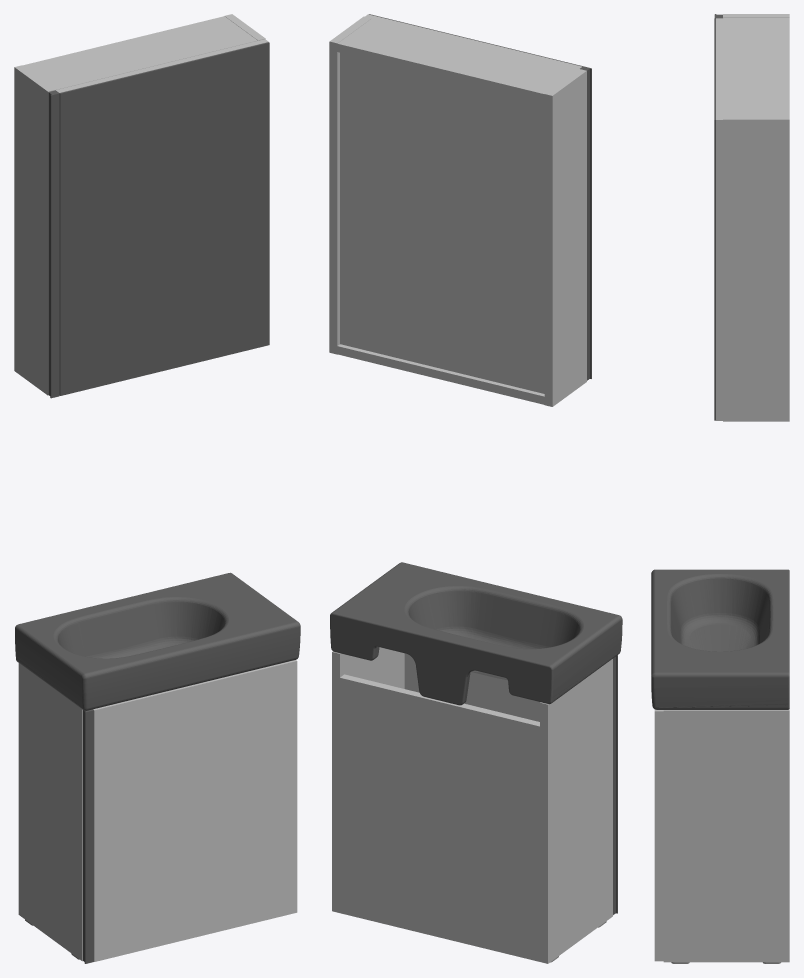
Rendered from AEC_48645.glb.
3 views of the same model, side by side, from view 1: azimuth 30°, elevation 25°; view 2: azimuth 150°, elevation 25°; view 3: azimuth 270°, elevation 25° (orthographic). The views are drawn at different scales.
Parts seen in each view (by area): view 1: 0; view 2: 0; view 3: 0.
Part boxes in pixels (x1,y1,x2,y2): 0: [14, 14, 300, 963]; 0: [329, 14, 622, 963]; 0: [651, 14, 789, 963].
Size of the model in its own units: 0.4523 by 1.68 by 0.2494.
1 material, 1 textured.
